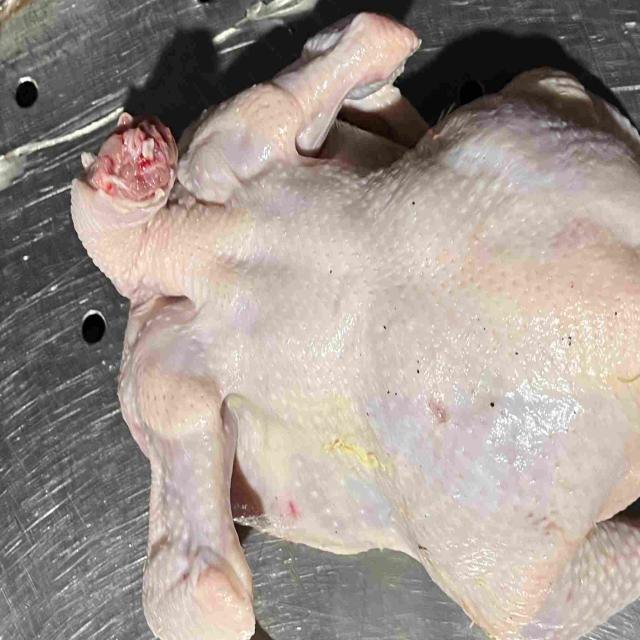back: (186, 176, 640, 501)
leg: (403, 462, 640, 640), (414, 65, 640, 249)
neck: (70, 111, 204, 300)
wing: (172, 9, 438, 196), (123, 310, 255, 640)
